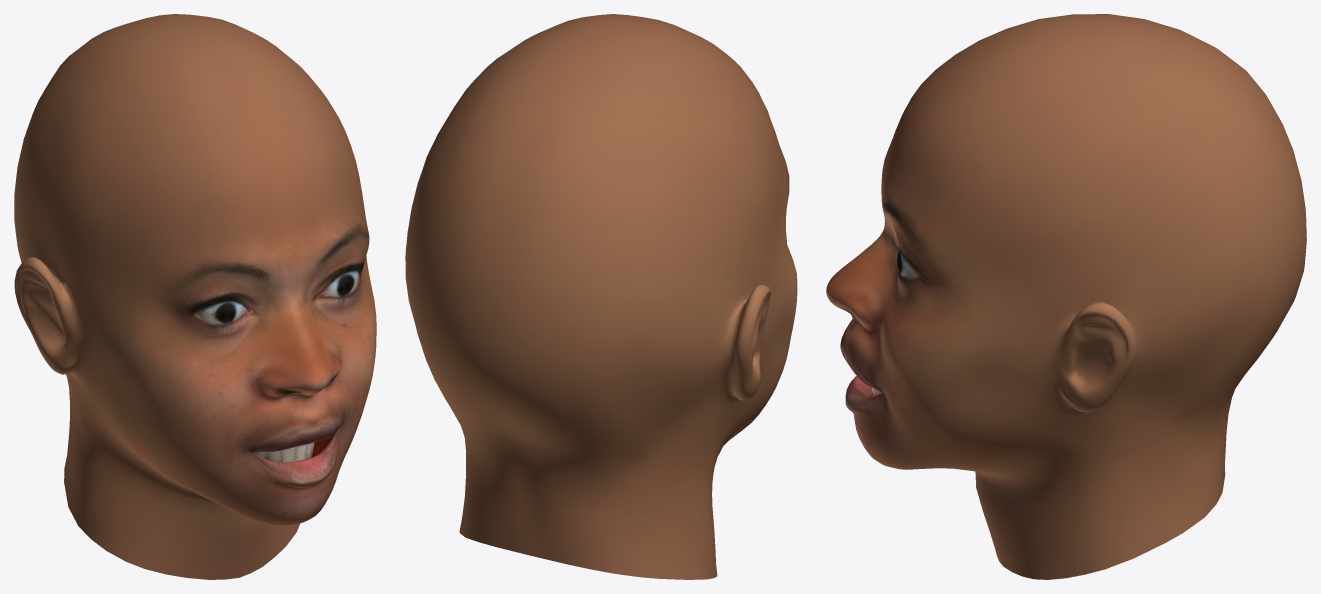
File: v332_obj_PhonemeN.obj
3 renders of one model, left to right at view 1: azimuth 30°, elevation 25°; view 2: azimuth 150°, elevation 25°; view 3: azimuth 270°, elevation 25°, orthographic. The views are drawn at different scales.
Parts seen in each view (by area): view 1: HeadHires, Mouth; view 2: HeadHires; view 3: HeadHires.
Boxes of the visible parts, x1,y1,x2,y2 form: HeadHires: (14,14,376,579); Mouth: (253,436,333,462); HeadHires: (405,14,797,579); HeadHires: (826,14,1306,579).
Size of the model in its own units: 187 by 282 by 233.
